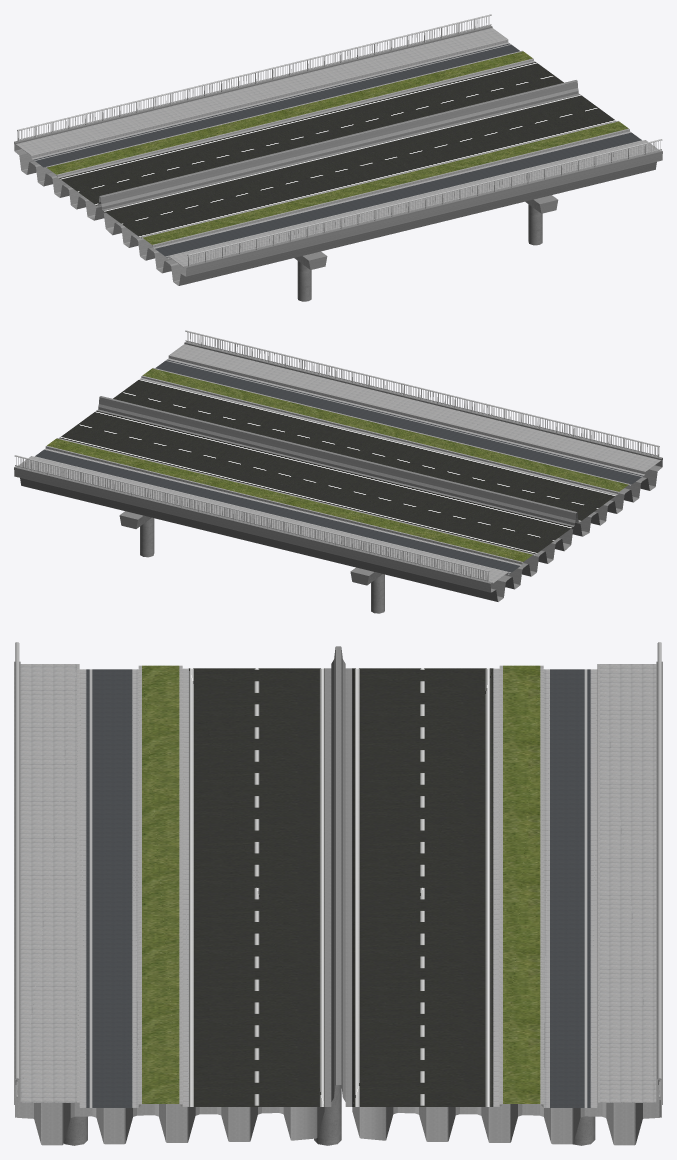
The model's file is qiao7.FBX.
3 renders of one model, top to bottom at view 1: azimuth 30°, elevation 25°; view 2: azimuth 150°, elevation 25°; view 3: azimuth 270°, elevation 25°, orthographic. The views are drawn at different scales.
Visible parts, largest first — view 1: qiao7; view 2: qiao7; view 3: qiao7.
Boxes of the visible parts, x1,y1,x2,y2 form: qiao7: (14, 14, 662, 301); qiao7: (14, 330, 662, 613); qiao7: (14, 642, 662, 1145).
Size of the model in its own units: 6081 by 1062 by 3803.
Materials: 6 (6 with a texture image).
